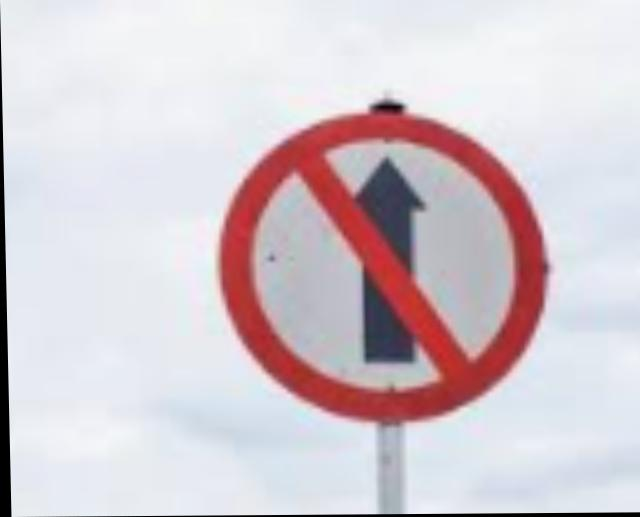not_go_straight: (206, 92, 571, 429)
